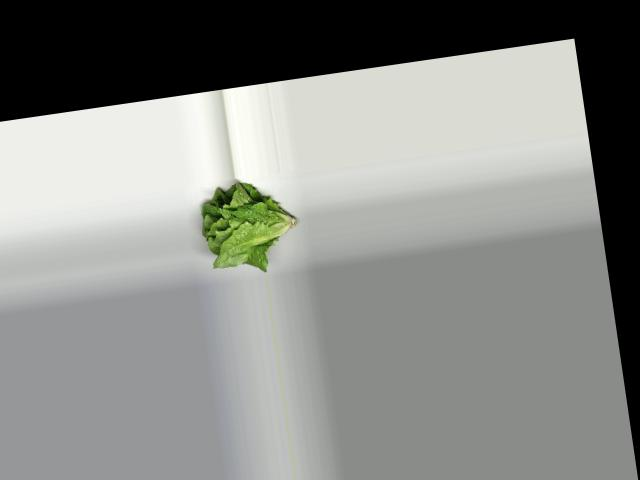lettuce: (195, 174, 305, 279)
